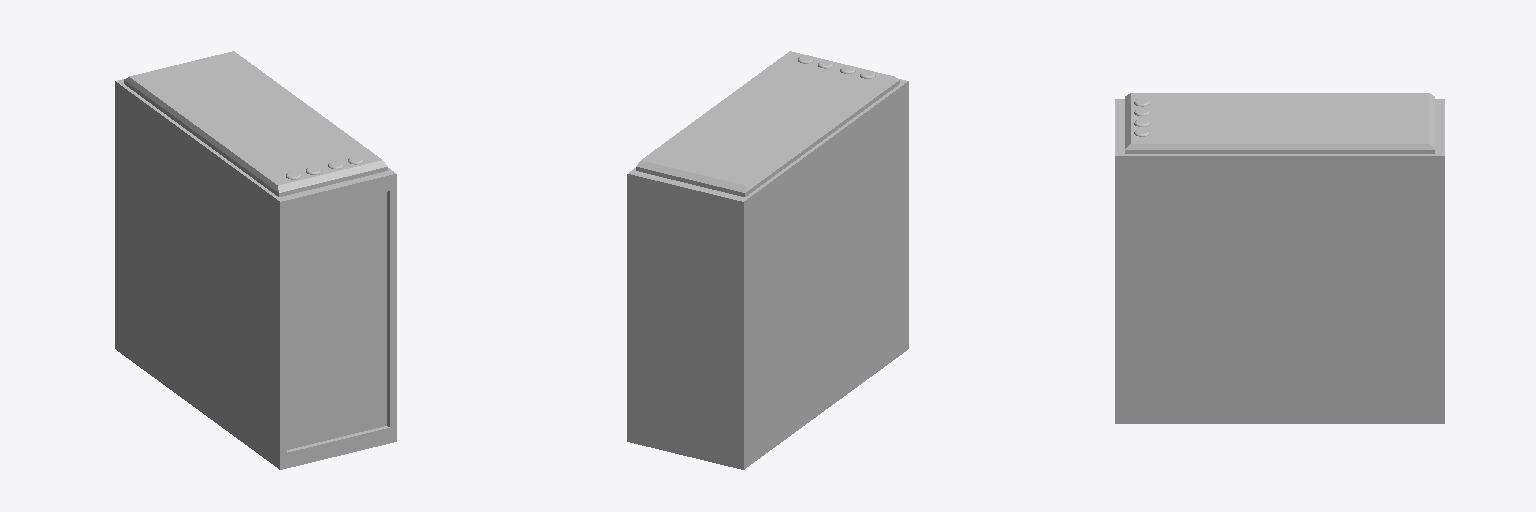
Rendered from Сomp 2.obj.
3 renders of one model, left to right at view 1: azimuth 30°, elevation 25°; view 2: azimuth 150°, elevation 25°; view 3: azimuth 270°, elevation 25°, orthographic.
Parts seen in each view (by area): view 1: Cube, Cube.001, Cube.002; view 2: Cube, Cube.002; view 3: Cube, Cube.002.
Part boxes in pixels (x1,y1,x2,y2): Cube: (115, 79, 396, 469); Cube.001: (287, 192, 386, 449); Cube.002: (124, 51, 387, 196); Cube: (627, 79, 908, 469); Cube.002: (636, 51, 899, 196); Cube: (1115, 99, 1444, 423); Cube.002: (1125, 93, 1434, 153).
Bounding box in the file's own units: 1.37 × 3.14 × 3.37.